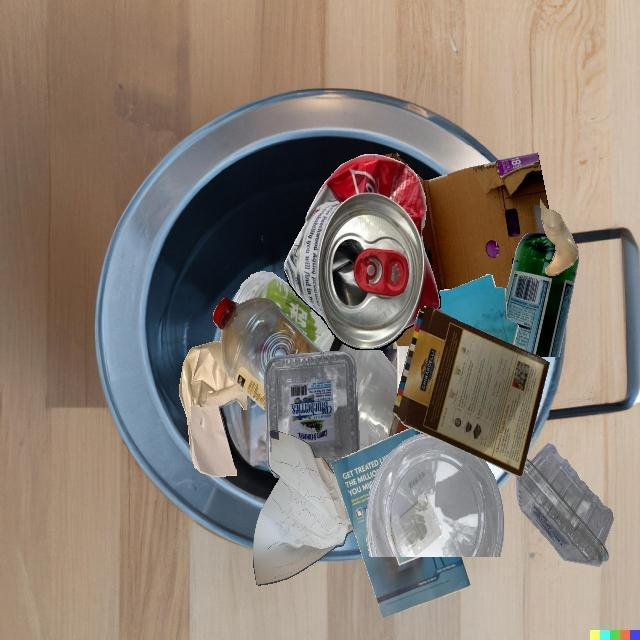cardboard: (393, 306, 549, 477), (415, 153, 549, 294), (381, 155, 419, 340)
glass: (506, 233, 578, 357), (540, 198, 578, 275), (380, 347, 397, 365), (386, 341, 397, 349)
metal: (284, 154, 440, 350)
paper: (331, 428, 470, 618), (253, 430, 354, 585), (179, 341, 248, 477), (438, 274, 519, 345), (397, 346, 409, 395)
plastic: (366, 434, 504, 557), (213, 297, 323, 411), (263, 351, 360, 478), (515, 442, 613, 567), (232, 271, 354, 349), (221, 342, 358, 405), (358, 405, 409, 450), (393, 388, 421, 434), (378, 349, 397, 388), (354, 349, 378, 350), (420, 432, 425, 434), (220, 334, 221, 342)
